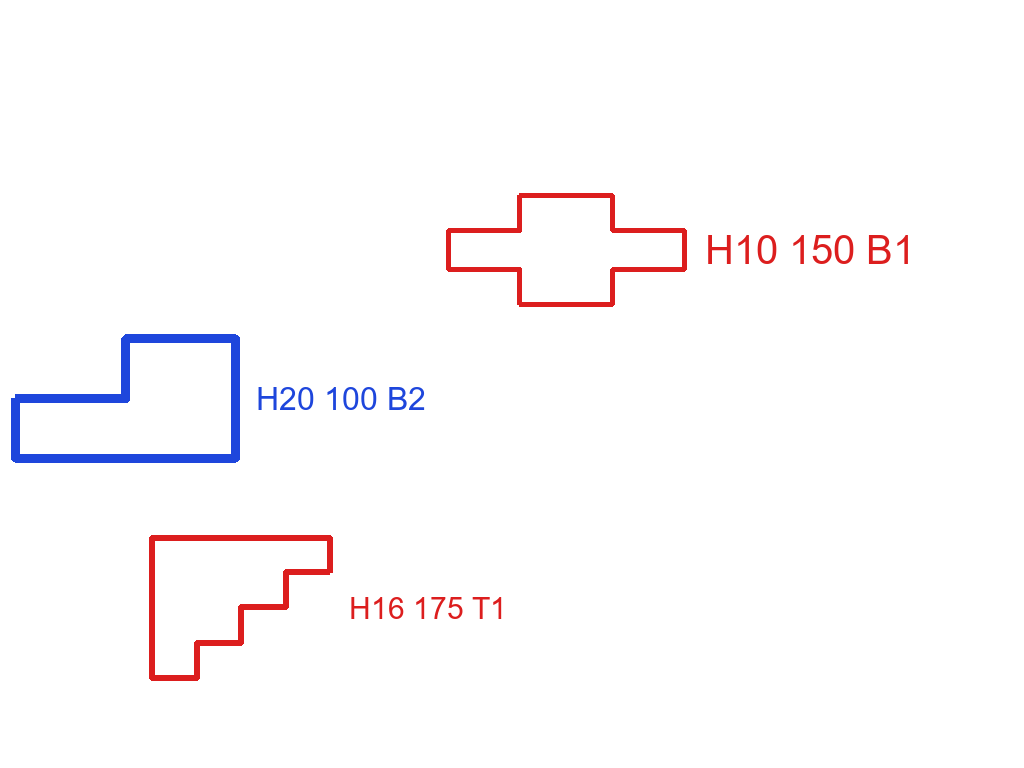shape: (9, 332, 242, 465), (444, 191, 689, 309), (147, 532, 334, 683)
text: (703, 233, 917, 266), (254, 385, 428, 412), (347, 595, 509, 621)
